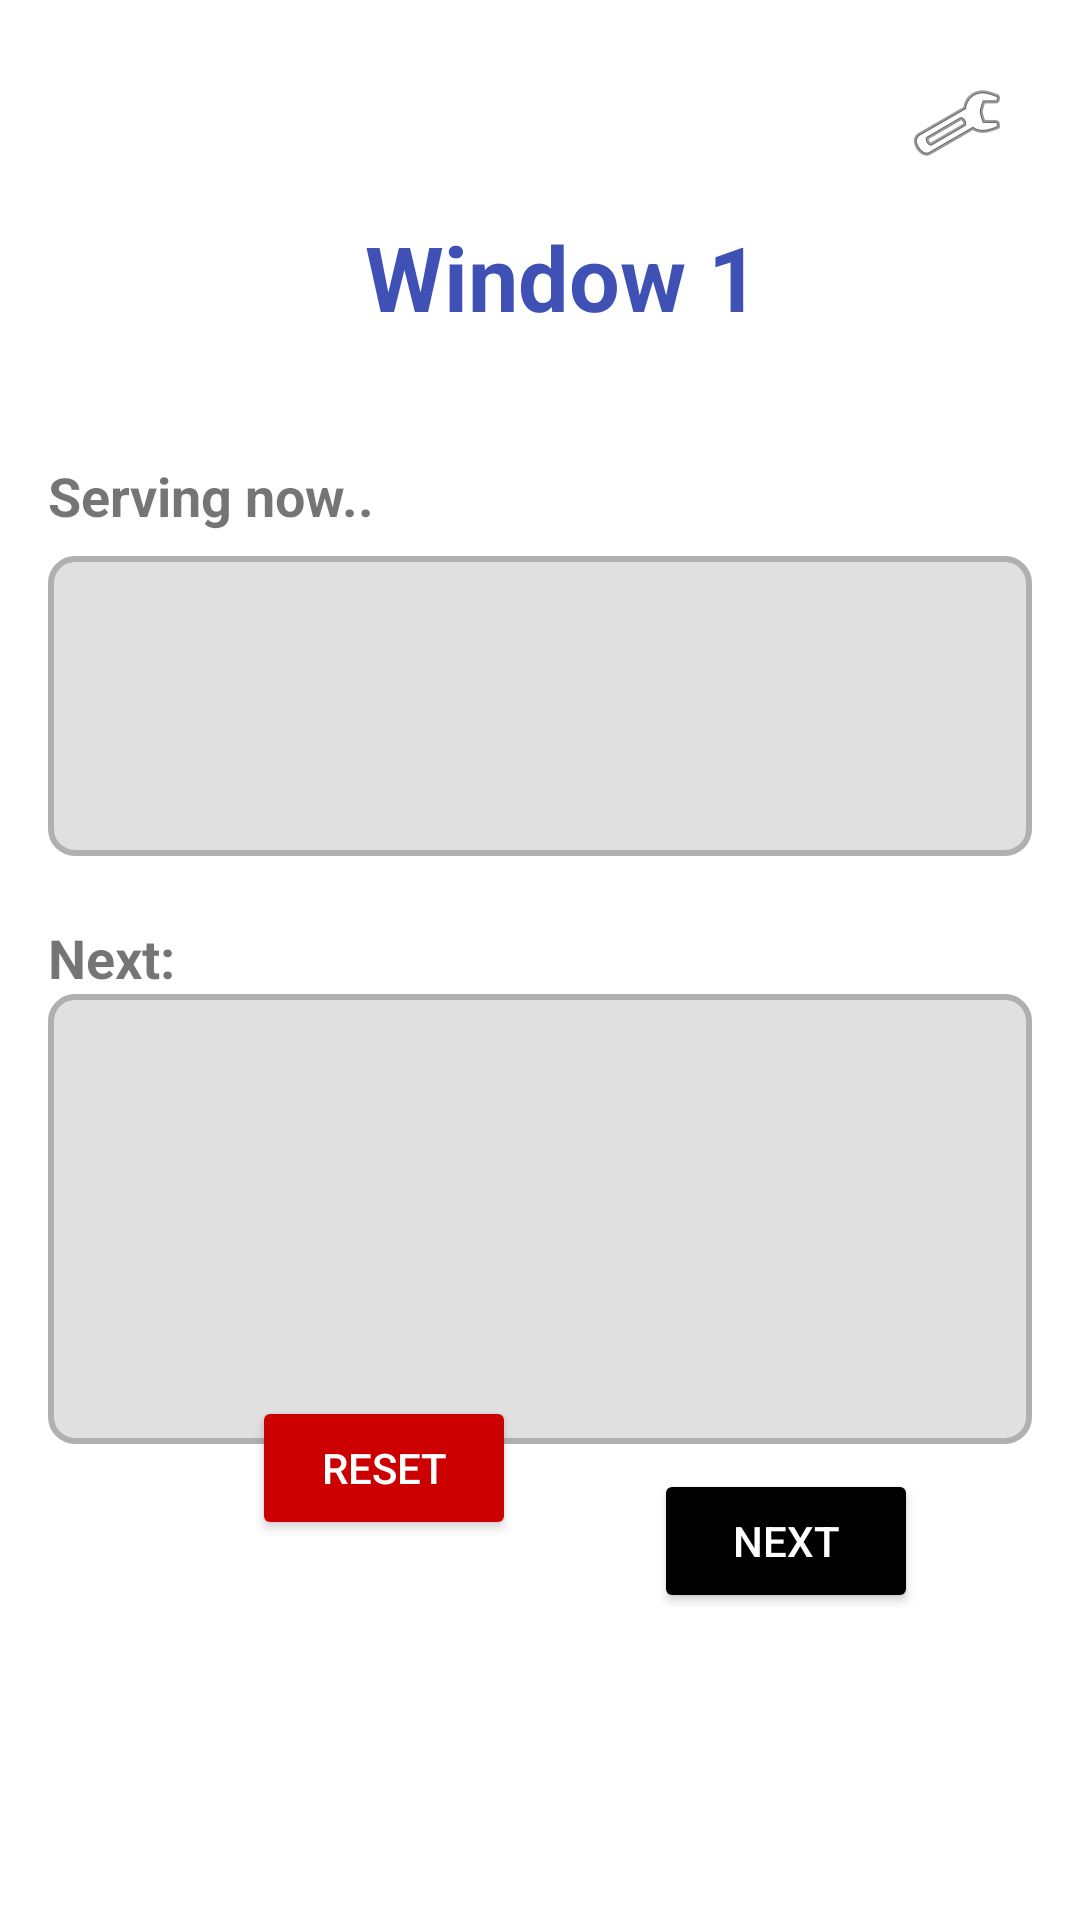

Locate icon controls on the screen. Image size 1080 × 1920, boxes as (x1, y1, x2, y2).
Settings: (914, 90, 1000, 156)
